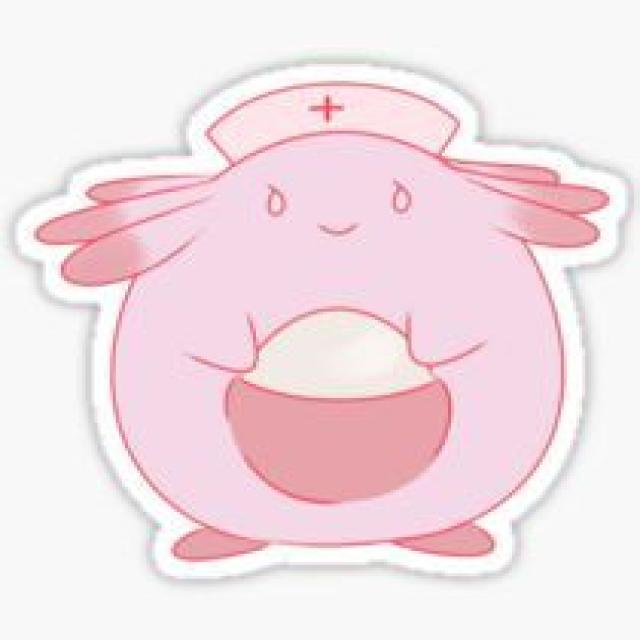Chansey: (36, 131, 611, 578)
